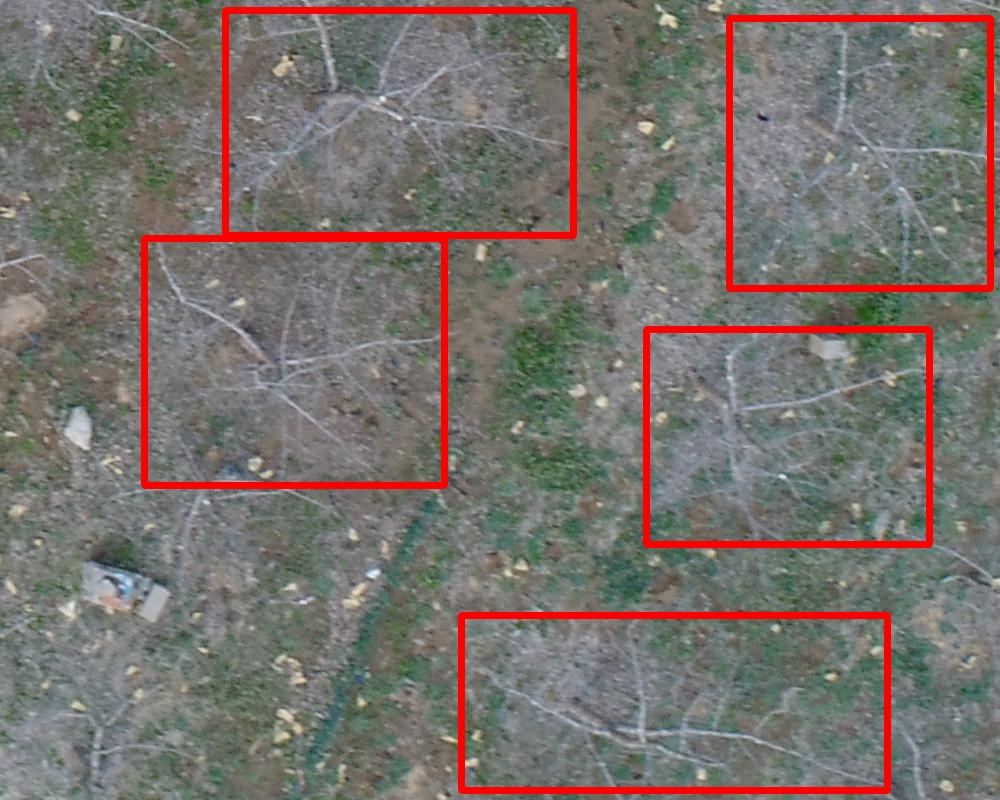apple: (225, 10, 573, 235), (461, 615, 887, 790), (144, 238, 444, 485), (729, 18, 990, 288), (646, 329, 929, 544)
